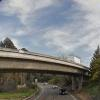Bridge: (4, 41, 89, 86)
